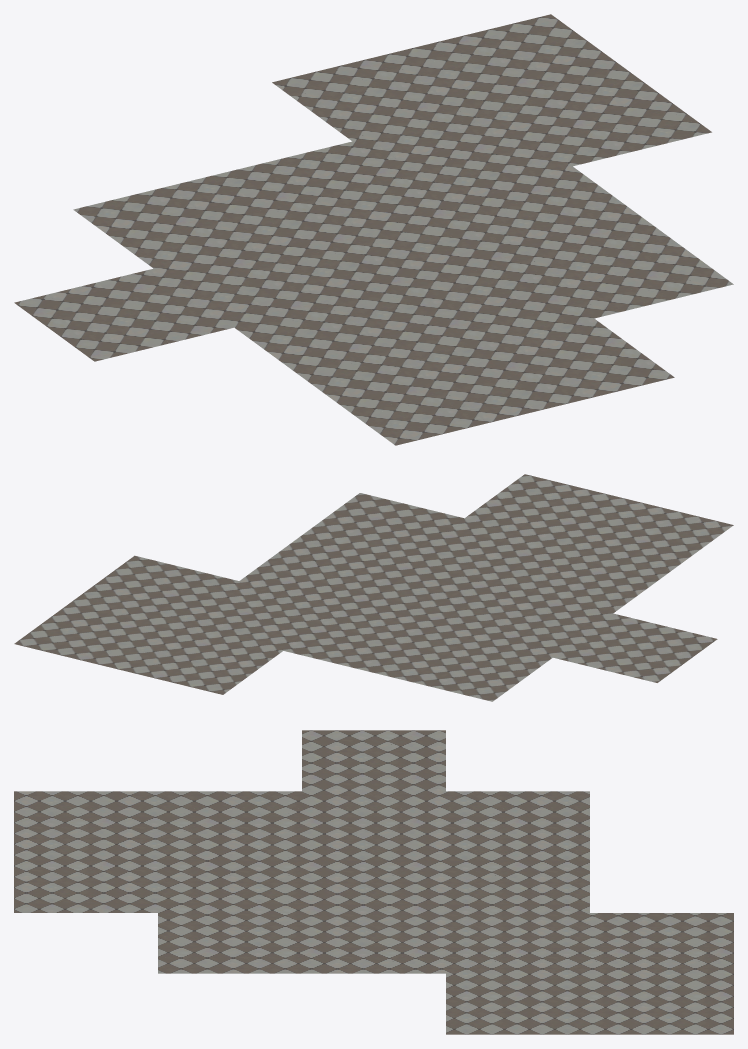
The model's file is Homeworld_Interior_Md_Room_K_Floor_01_Vo.fbx.
3 renders of one model, top to bottom at view 1: azimuth 30°, elevation 25°; view 2: azimuth 150°, elevation 25°; view 3: azimuth 270°, elevation 25°, orthographic. The views are drawn at different scales.
Parts seen in each view (by area): view 1: Homeworld_Interior_Md_Room_K_Floor_01_Vo; view 2: Homeworld_Interior_Md_Room_K_Floor_01_Vo; view 3: Homeworld_Interior_Md_Room_K_Floor_01_Vo.
Boxes of the visible parts, x1,y1,x2,y2 form: Homeworld_Interior_Md_Room_K_Floor_01_Vo: [14, 14, 733, 445]; Homeworld_Interior_Md_Room_K_Floor_01_Vo: [14, 474, 733, 701]; Homeworld_Interior_Md_Room_K_Floor_01_Vo: [14, 730, 733, 1034].
Bounding box in the file's own units: 25 × 0 × 25.
